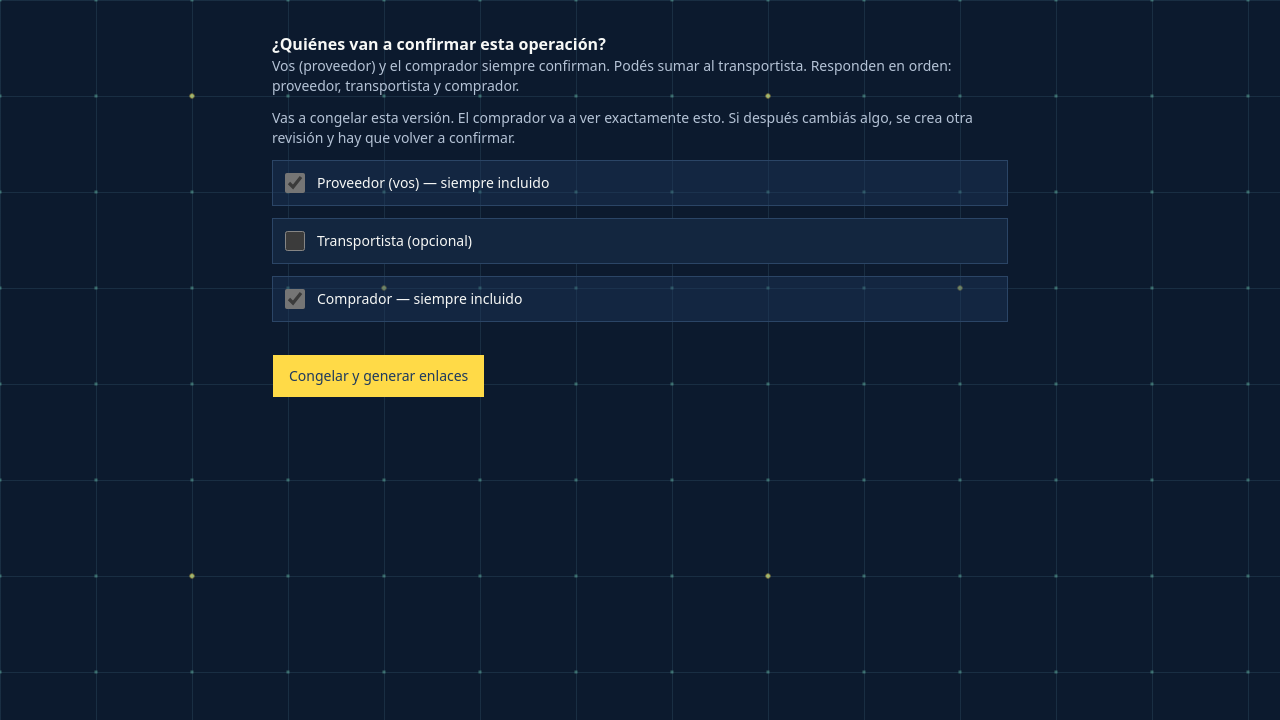
Scenario: ReviewContainer › un conflicto de borrador se muestra como error y no congela nada
Click the button "Congelar y generar enlaces" at (379, 376), box x1=272 y1=354 x2=485 y2=398
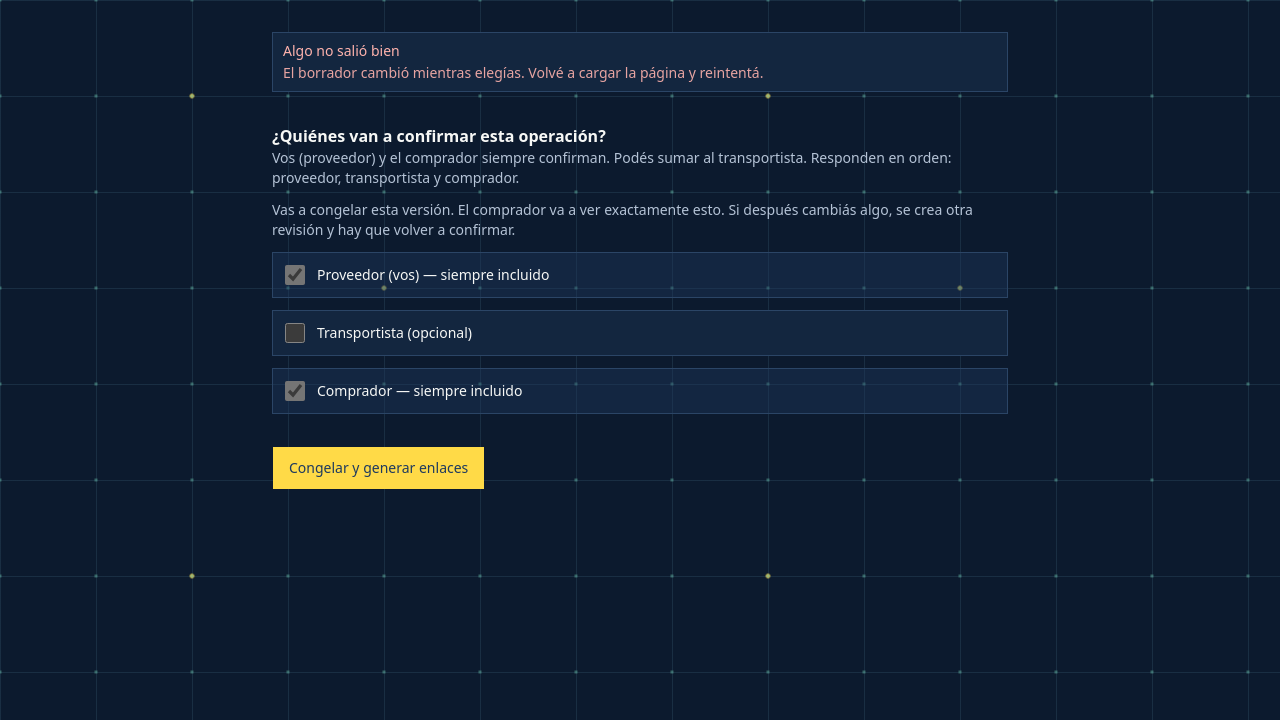
Check: the checkbox labelled "Transportista (opcional)" is enabled, box x1=285 y1=323 x2=305 y2=343
Check: the text "El borrador cambió" is shown, box x1=283 y1=63 x2=763 y2=82
